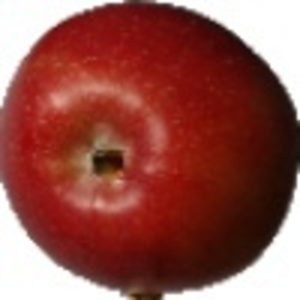maçã braeburn: (1, 8, 300, 294)
